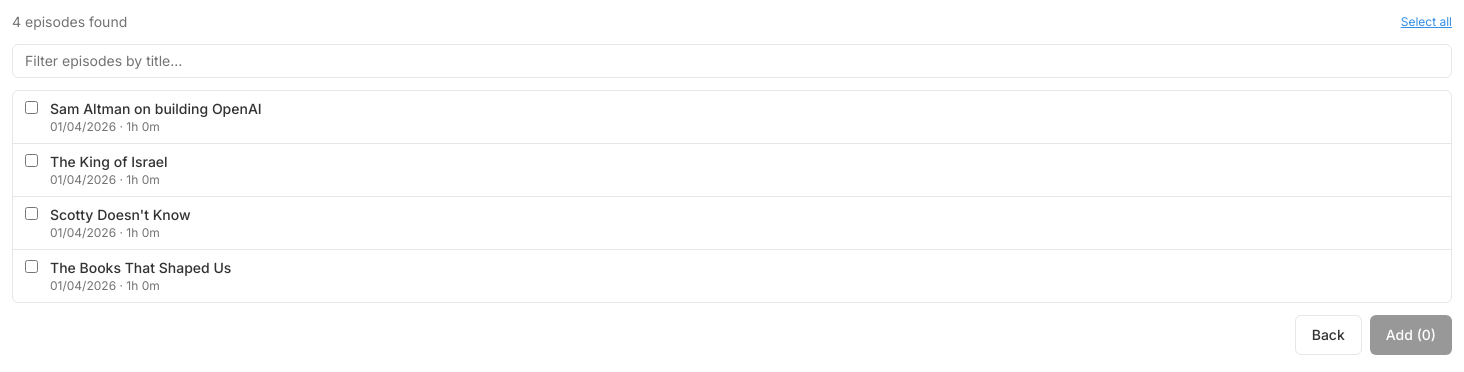
Scenario: episode filter (#982) › narrows the rendered list as you type
Type "king" into the field with placeholder "Filter episodes by title..." at (732, 61), box [12,44,1452,78]
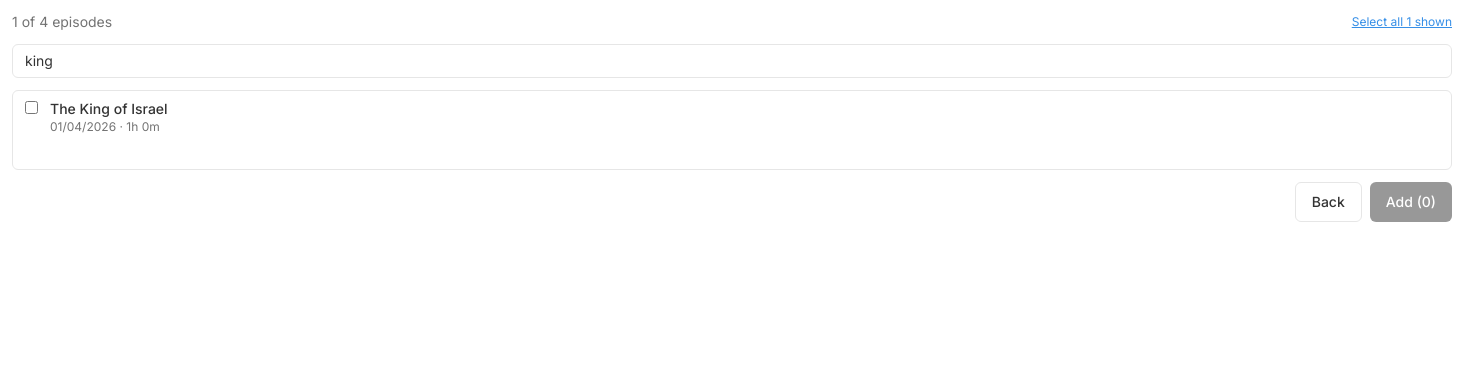
Check: the text "The King of Israel" is shown, box [50,100,168,117]
Check: the text "Sam Altman on building OpenAI" is gone
